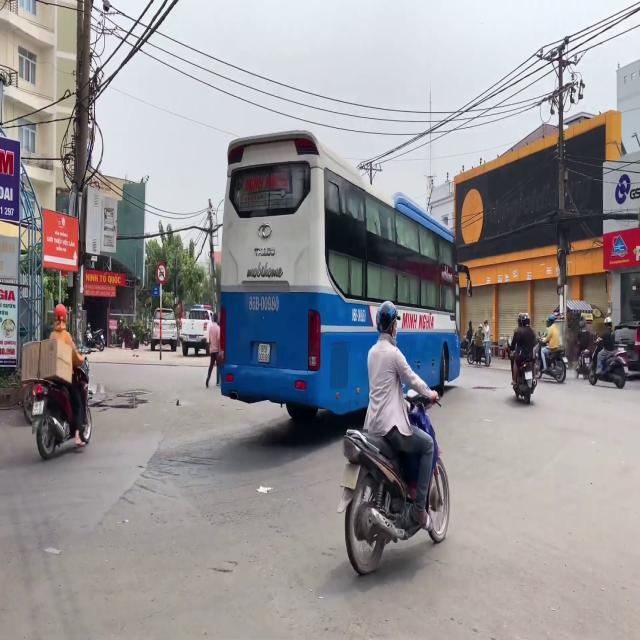bien_trang: (257, 344, 271, 364)
